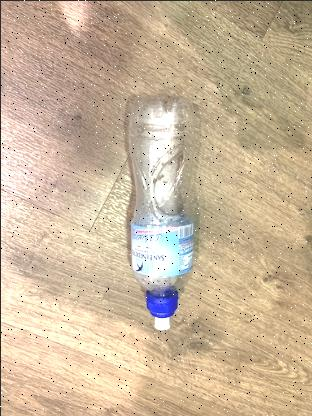Plastic Bottle: (129, 91, 195, 317)
